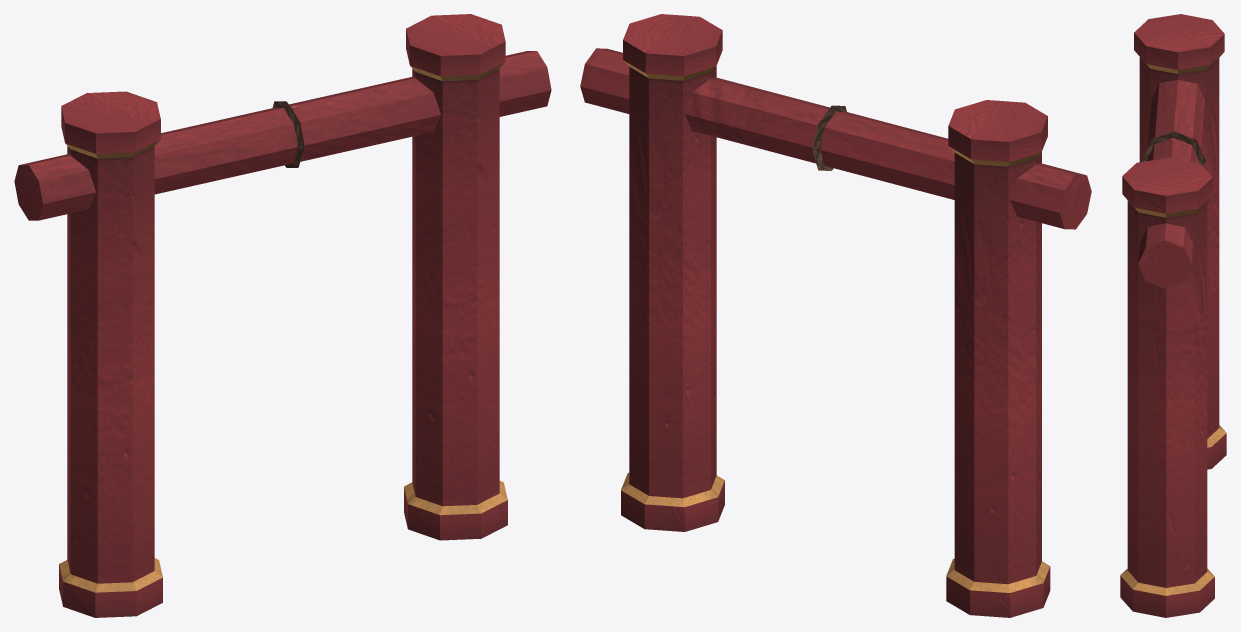
Rendered from BellStructure_Art.fbx.
3 renders of one model, left to right at view 1: azimuth 30°, elevation 25°; view 2: azimuth 150°, elevation 25°; view 3: azimuth 270°, elevation 25°, orthographic. The views are drawn at different scales.
Parts seen in each view (by area): view 1: BellStructure_Art; view 2: BellStructure_Art; view 3: BellStructure_Art.
Part boxes in pixels (x1=…): BellStructure_Art: x1=14, y1=14, x2=551, y2=617; BellStructure_Art: x1=580, y1=14, x2=1091, y2=617; BellStructure_Art: x1=1120, y1=14, x2=1226, y2=617.
Size of the model in its own units: 3.69 by 3.41 by 0.7807.
